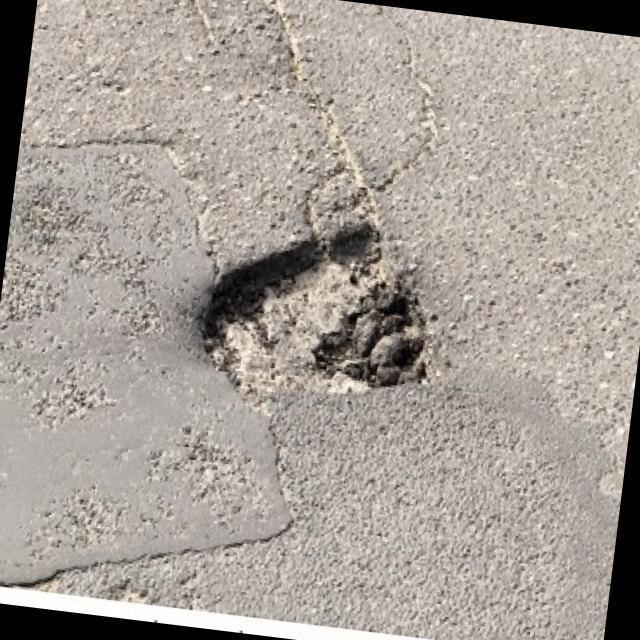pothole: (184, 195, 453, 428)
